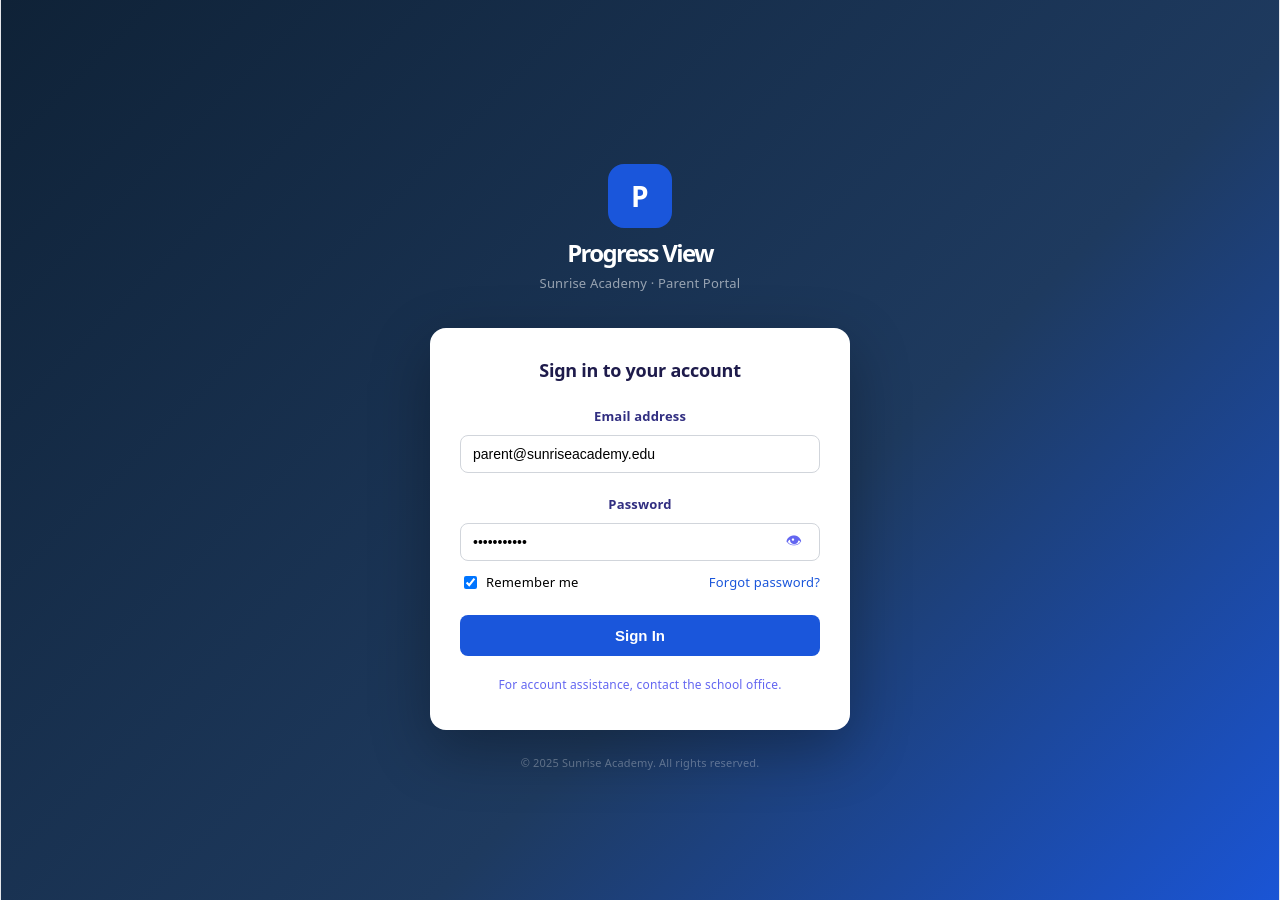
Test case: ProgressView Unique Tests (120+ Cases) › 1. Login Screen Basic Elements › 1.14 Should switch password element type to text when toggle button is clicked
This screenshot has width=1280, height=900.
Step 1. Click the button "👁" → (794, 542), box [780,528,808,557]
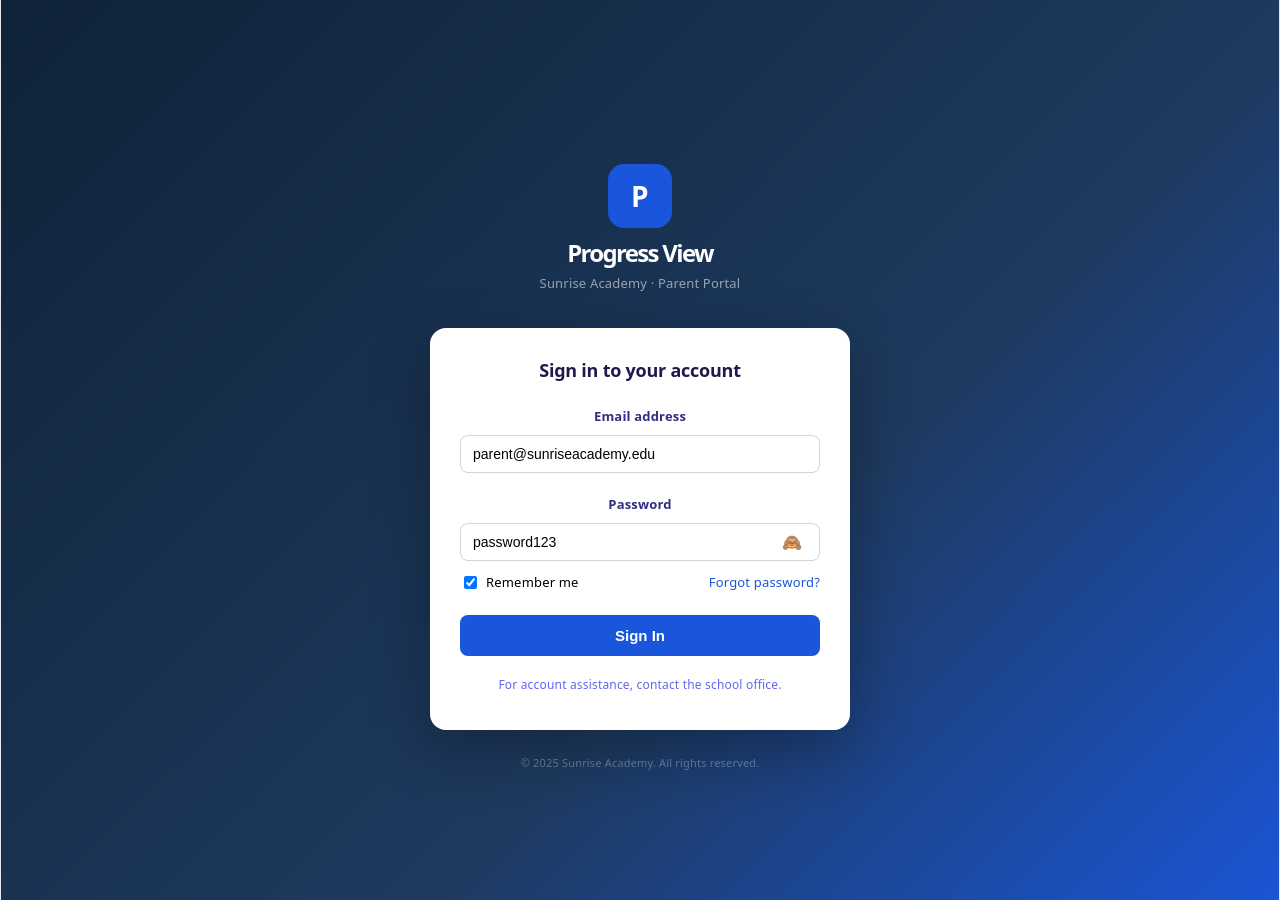
Expected: the 2nd field with placeholder "••••••••" shows its text, [460,523,820,561]
